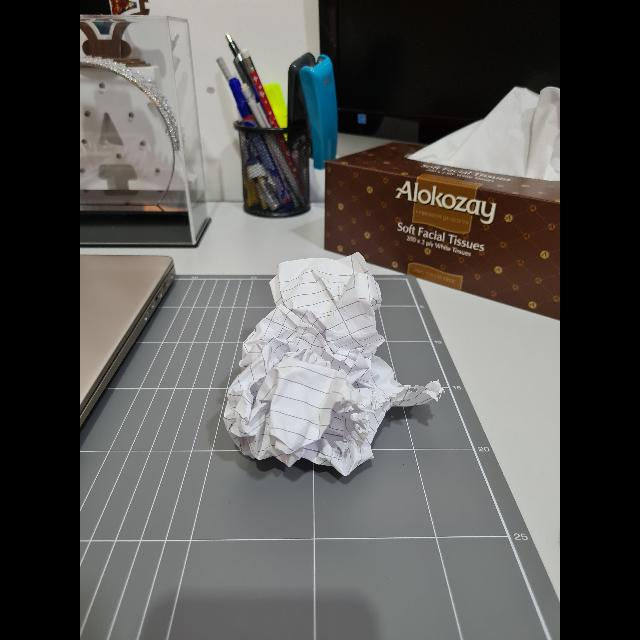scrap_paper: (216, 260, 442, 468)
